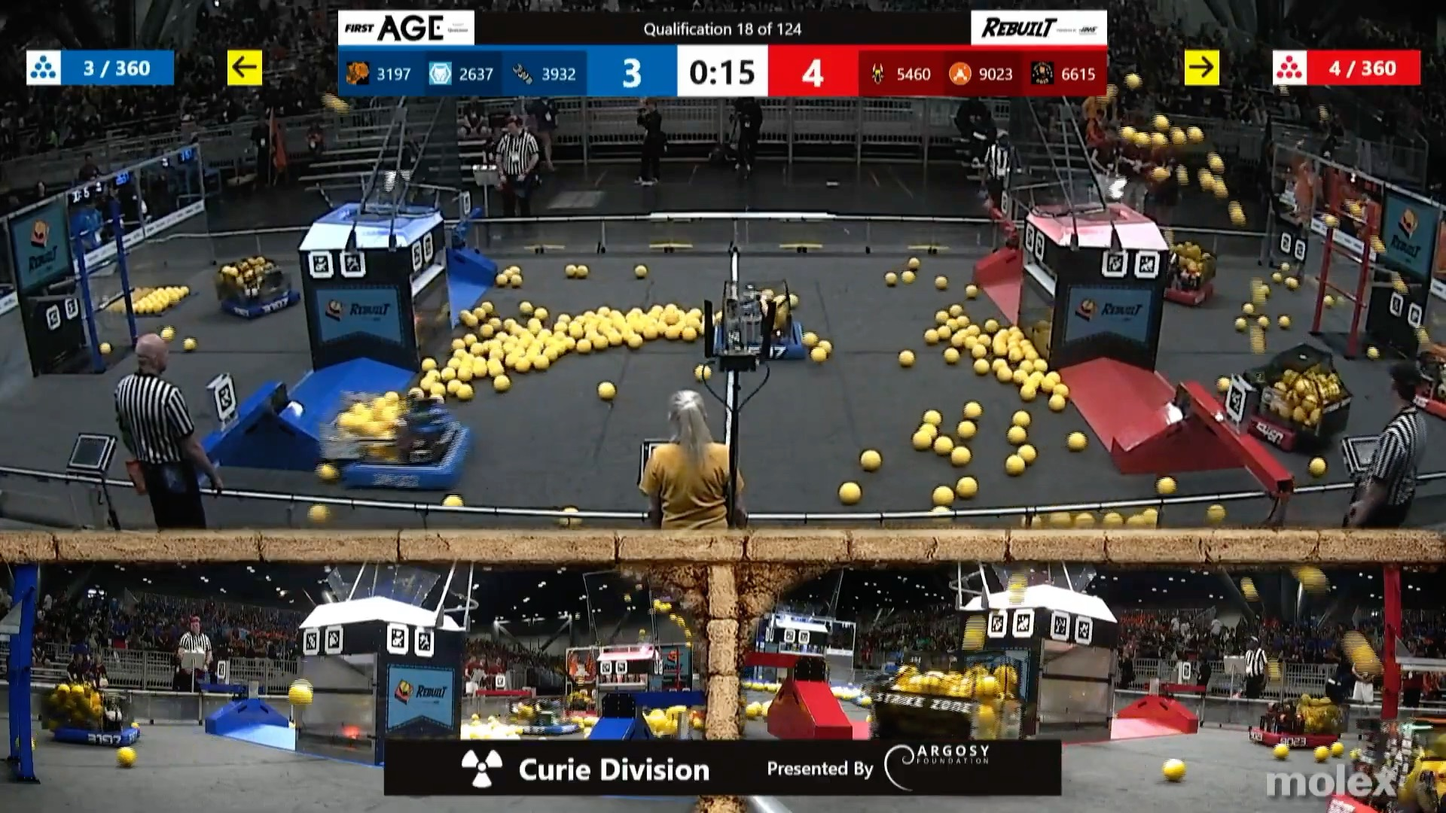bumpers: (336, 424, 479, 498), (1235, 399, 1355, 458), (1323, 772, 1446, 813), (709, 320, 819, 365), (1240, 716, 1344, 757), (50, 713, 154, 752), (212, 284, 311, 322), (1152, 277, 1216, 306)
